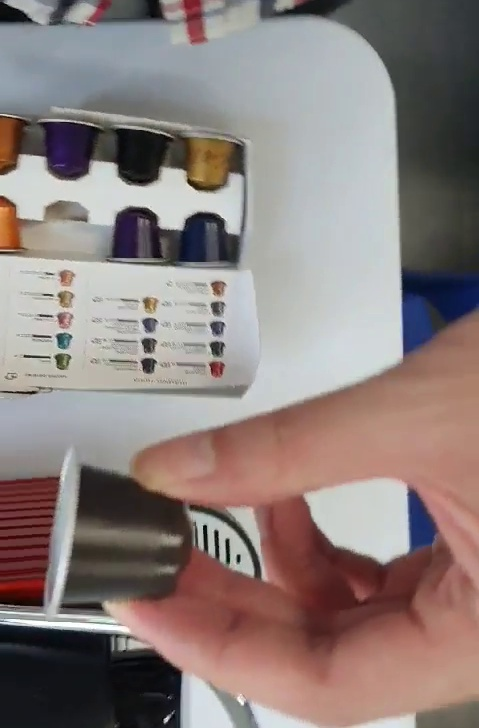capsule_4: (38, 444, 194, 618)
